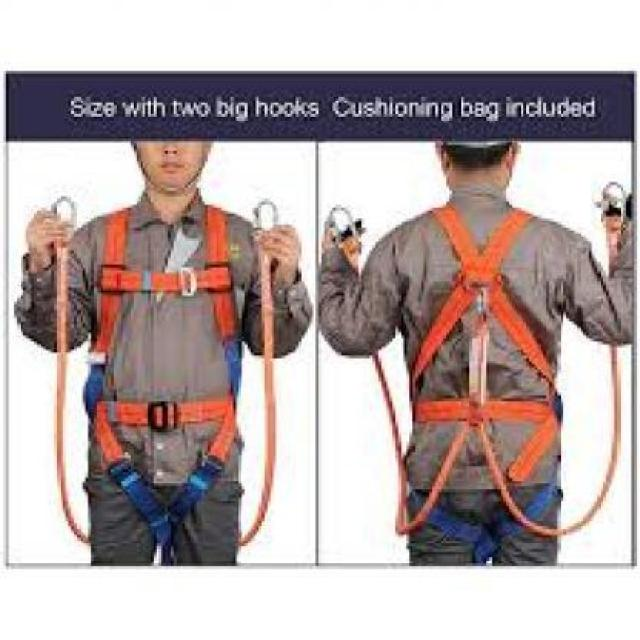Belt: (321, 201, 640, 561), (33, 192, 281, 542)
